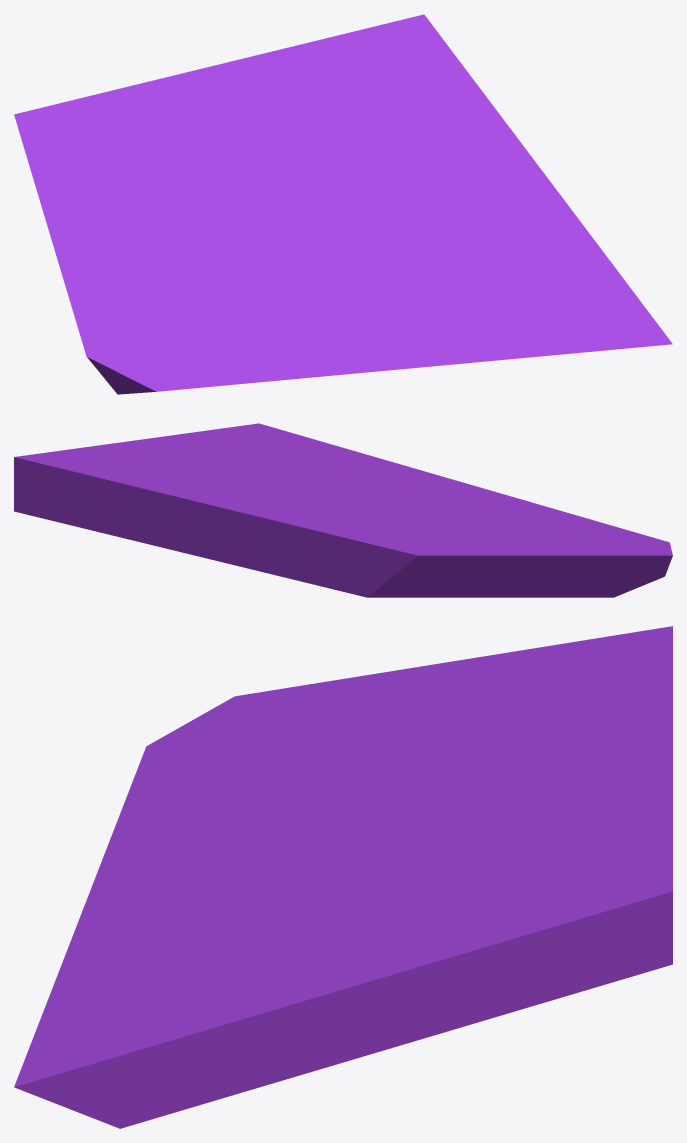
The model's file is Window_167_0_chunks.fbx.
The picture shows the model from 3 angles, top to bottom: view 1: azimuth 30°, elevation 25°; view 2: azimuth 150°, elevation 25°; view 3: azimuth 270°, elevation 25°; orthographic projection. The views are drawn at different scales.
Parts seen in each view (by area): view 1: Window_167_0_13, Window_167_0_10, Window_167_0_3, Window_167_0_9, Window_167_0_12, Window_167_0_0, Window_167_0_21, Window_167_0_20, Window_167_0_2, Window_167_0_16, Window_167_0_1, Window_167_0_14 (+3 smaller); view 2: Window_167_0_12, Window_167_0_13, Window_167_0_2, Window_167_0_3, Window_167_0_10, Window_167_0_9, Window_167_0_0, Window_167_0_21, Window_167_0_20, Window_167_0_16, Window_167_0_11, Window_167_0_1 (+4 smaller); view 3: Window_167_0_10, Window_167_0_9, Window_167_0_13, Window_167_0_12, Window_167_0_3, Window_167_0_0, Window_167_0_21, Window_167_0_16, Window_167_0_20, Window_167_0_2, Window_167_0_1, Window_167_0_14 (+3 smaller).
Part boxes in pixels (left/top/right/bottom): Window_167_0_13: left=83, top=60, right=366, bottom=195; Window_167_0_10: left=345, top=84, right=568, bottom=235; Window_167_0_3: left=50, top=234, right=243, bottom=394; Window_167_0_9: left=406, top=207, right=655, bottom=322; Window_167_0_12: left=236, top=14, right=476, bottom=121; Window_167_0_0: left=68, top=119, right=223, bottom=265; Window_167_0_21: left=228, top=292, right=391, bottom=385; Window_167_0_20: left=338, top=229, right=461, bottom=332; Window_167_0_2: left=14, top=97, right=109, bottom=234; Window_167_0_16: left=478, top=302, right=672, bottom=361; Window_167_0_1: left=179, top=208, right=274, bottom=337; Window_167_0_14: left=332, top=301, right=482, bottom=375; Window_167_0_12: left=14, top=450, right=244, bottom=565; Window_167_0_13: left=188, top=477, right=385, bottom=573; Window_167_0_2: left=328, top=534, right=543, bottom=597; Window_167_0_3: left=496, top=519, right=672, bottom=597; Window_167_0_10: left=67, top=437, right=337, bottom=487; Window_167_0_9: left=157, top=425, right=323, bottom=475; Window_167_0_0: left=359, top=515, right=531, bottom=551; Window_167_0_21: left=422, top=485, right=611, bottom=525; Window_167_0_20: left=297, top=466, right=434, bottom=494; Window_167_0_16: left=243, top=423, right=411, bottom=467; Window_167_0_11: left=243, top=487, right=406, bottom=577; Window_167_0_1: left=393, top=506, right=541, bottom=528; Window_167_0_10: left=289, top=855, right=536, bottom=1054; Window_167_0_9: left=58, top=898, right=336, bottom=1128; Window_167_0_13: left=399, top=670, right=672, bottom=862; Window_167_0_12: left=514, top=770, right=672, bottom=1004; Window_167_0_3: left=128, top=660, right=456, bottom=799; Window_167_0_0: left=350, top=673, right=625, bottom=774; Window_167_0_21: left=101, top=793, right=245, bottom=897; Window_167_0_16: left=14, top=958, right=133, bottom=1115; Window_167_0_20: left=149, top=858, right=327, bottom=940; Window_167_0_2: left=448, top=626, right=672, bottom=690; Window_167_0_1: left=202, top=750, right=428, bottom=811; Window_167_0_14: left=64, top=862, right=184, bottom=958.
Bounding box in the file's own units: 956 × 326 × 819.
